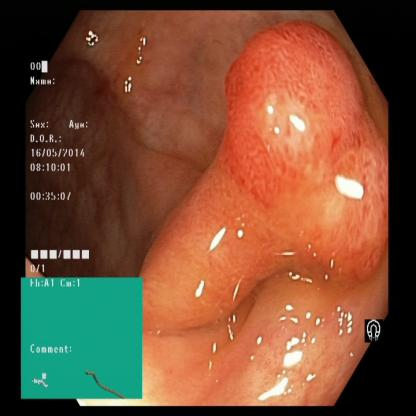Polyps: (211, 31, 380, 286)
